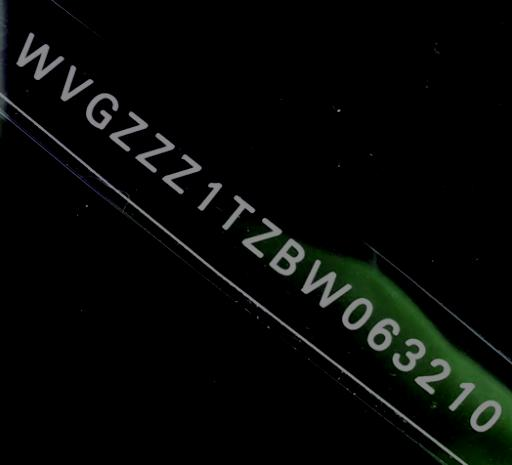letter: (13, 27, 65, 83), (298, 258, 354, 307), (240, 213, 284, 258), (132, 131, 176, 175), (158, 151, 202, 195), (108, 107, 148, 153), (266, 235, 308, 277), (216, 192, 258, 233), (412, 355, 452, 395), (58, 64, 96, 106), (84, 88, 120, 130), (390, 335, 428, 373), (339, 293, 375, 332), (364, 315, 400, 353), (467, 396, 503, 433), (446, 378, 476, 413), (194, 179, 224, 211)
